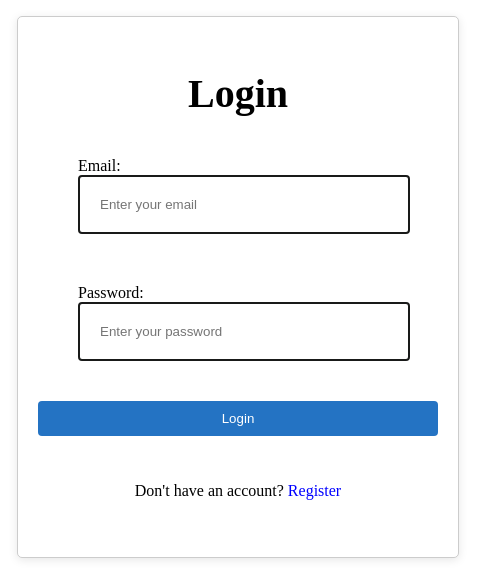
Test: Login Component › displays error for password shorter than 8 characters
The width and height of the screenshot is (477, 578).
In the field labelled "Email:": (244, 205) left=78, top=175, right=410, bottom=234, type "test@example.com"
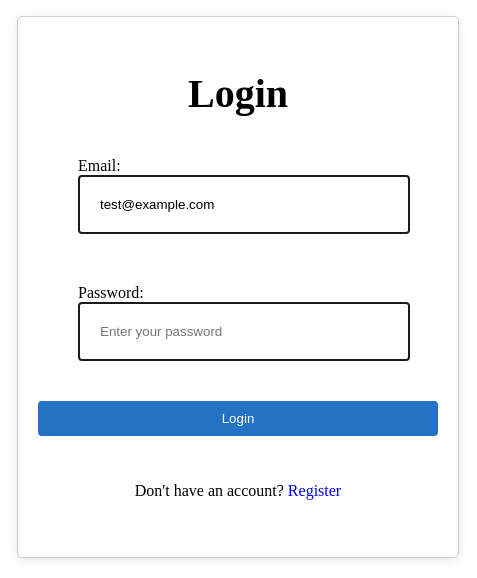
In the password field labelled "Password:": (244, 332) left=78, top=302, right=410, bottom=361, type "short"
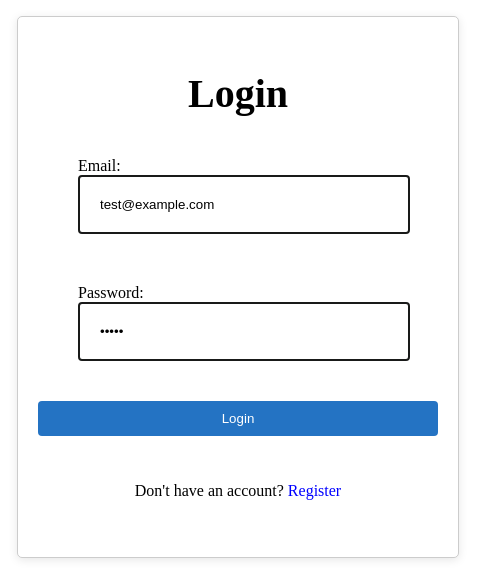
Click the button "Login": (238, 419) left=38, top=401, right=438, bottom=436
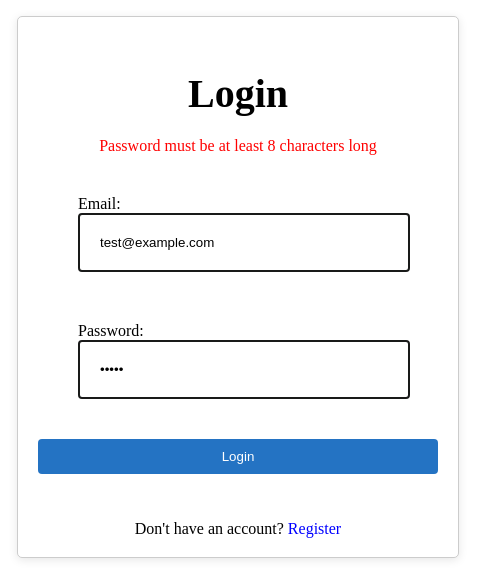
Now the text "Password must be at least 8 characters long" is shown, box left=99, top=137, right=377, bottom=154
